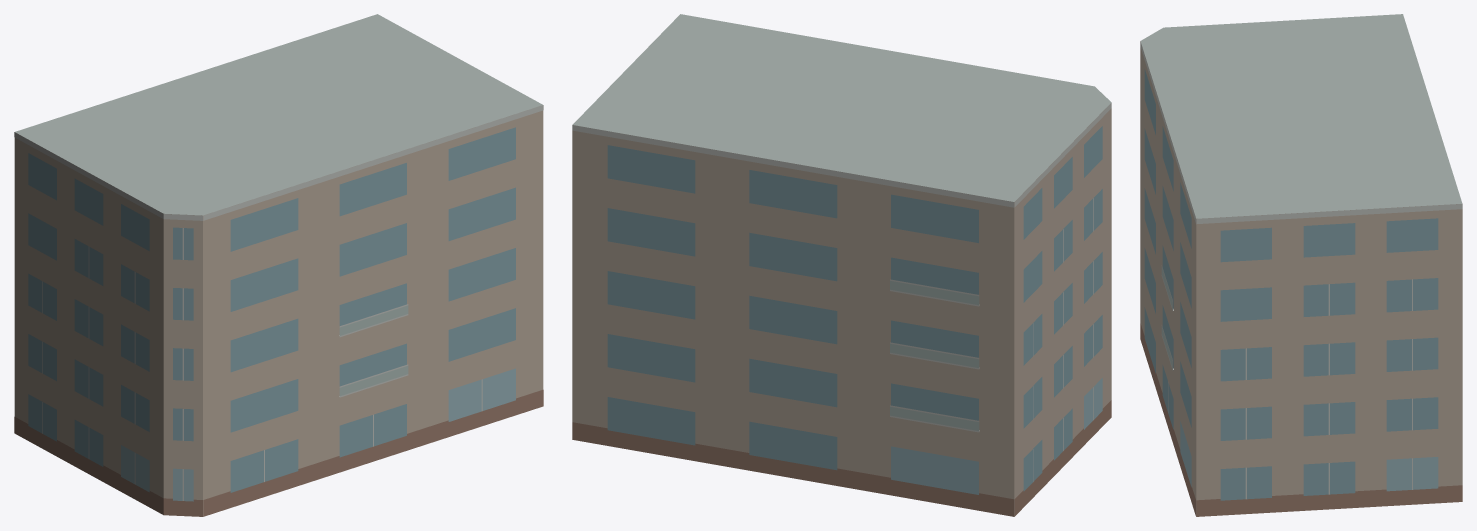
Rendered from survey-upis-32531891.glb.
The picture shows the model from 3 angles, left to right: view 1: azimuth 30°, elevation 25°; view 2: azimuth 150°, elevation 25°; view 3: azimuth 270°, elevation 25°; orthographic projection. The views are drawn at different scales.
Parts seen in each view (by area): view 1: survey-upis-32531891.tmp; view 2: survey-upis-32531891.tmp; view 3: survey-upis-32531891.tmp.
Part boxes in pixels (bbox=[...]): survey-upis-32531891.tmp: bbox=[14, 14, 543, 516]; survey-upis-32531891.tmp: bbox=[572, 14, 1111, 516]; survey-upis-32531891.tmp: bbox=[1140, 14, 1462, 516].
Size of the model in its own units: 19.9 by 13.5 by 13.23.
